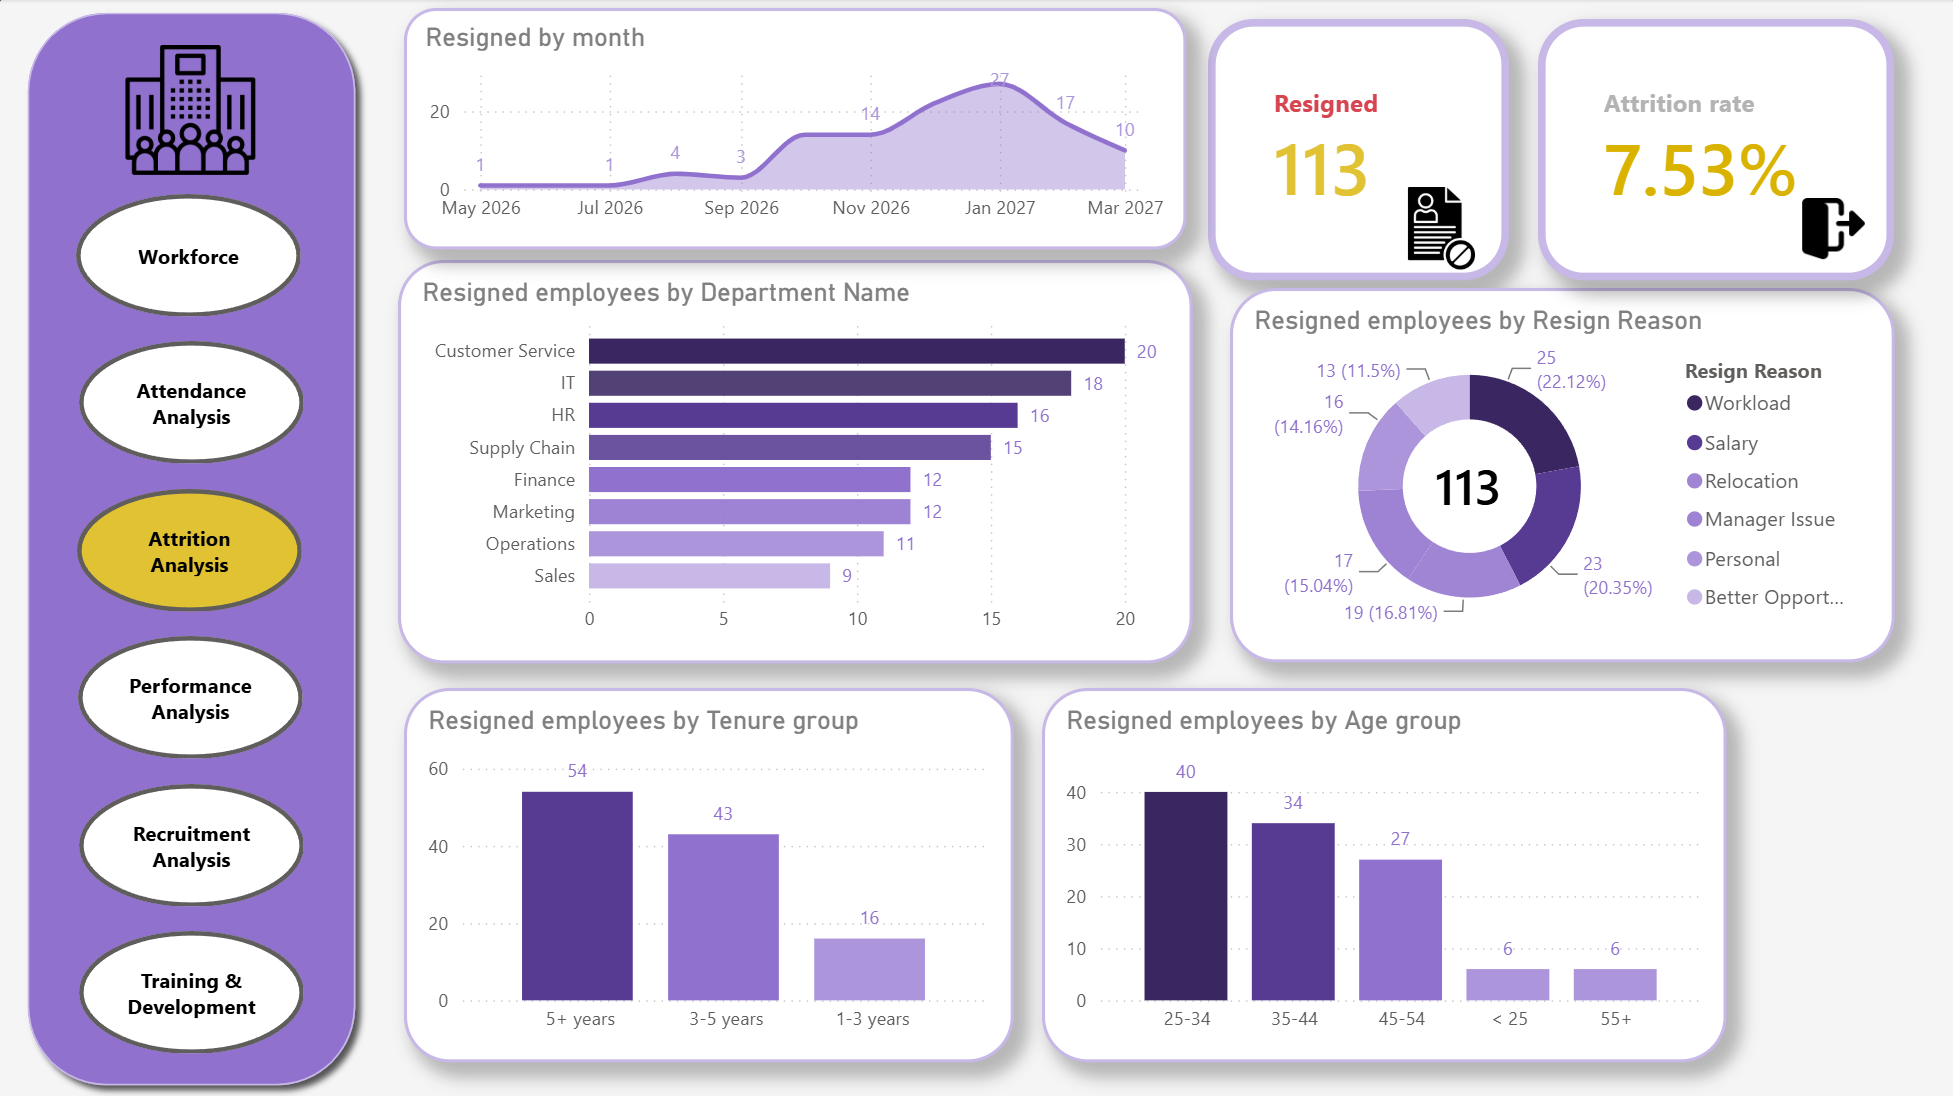

The dashboard page shown, as its layout file describes it:
{"tool":"powerbi","page":{"name":"Attrition Analysis","canvas":[1280,720],"ordinal":2},"visuals":[{"type":"shape","box":[9.8,0,232.3,719.8],"z":0},{"type":"actionButton","box":[52.1,224.1,147.2,80.5],"z":1000},{"type":"actionButton","box":[50.8,320.5,147.2,80.5],"z":2000},{"type":"actionButton","box":[51.4,417,147.2,80.5],"z":3000},{"type":"cardVisual","fields":{"Data":["ALL MEASURES.Resigned_employees"]},"box":[791.2,13.1,197,170.8],"z":4000},{"type":"actionButton","box":[52.1,513.4,147.2,80.5],"z":5000},{"type":"donutChart","title":"Resigned employees by Resign Reason","fields":{"Category":["Employees.Resign Reason"],"Y":["ALL MEASURES.Resigned_employees"]},"box":[805.6,189.1,434.5,245.4],"z":6000},{"type":"actionButton","box":[52.4,609.9,147.2,80.5],"z":7000},{"type":"clusteredBarChart","title":"Resigned employees by Department Name","fields":{"Category":["Departments.Department Name"],"Y":["ALL MEASURES.Resigned_employees"]},"box":[261.1,170.8,519.6,263.7],"z":8000},{"type":"cardVisual","fields":{"Data":["ALL MEASURES.Resigned_employees"]},"box":[890,250.1,143.5,132.6],"z":9000},{"type":"cardVisual","fields":{"Data":["ALL MEASURES.Attrition_rate"]},"box":[1007.1,13.1,233.1,170.6],"z":10000},{"type":"clusteredColumnChart","title":"Resigned employees by Tenure group","fields":{"Category":["Employees.Tenure group"],"Y":["ALL MEASURES.Resigned_employees"]},"box":[265,450.9,399.2,245.4],"z":11000},{"type":"clusteredColumnChart","fields":{"Category":["Employees.Age group"],"Y":["ALL MEASURES.Resigned_employees"]},"box":[682.5,450.9,448.3,245.4],"z":12000},{"type":"actionButton","box":[50.1,127.6,147.2,80.5],"z":13000},{"type":"image","box":[907,123,74.2,54],"z":14000},{"type":"image","box":[1174,130.2,52.7,40.4],"z":15000},{"type":"areaChart","title":"Resigned by month","fields":{"Category":["DateTable.Date.Variation.Date Hierarchy.Year","DateTable.Date.Variation.Date Hierarchy.Month"],"Y":["ALL MEASURES.Resigned_by_date"]},"box":[265,5.9,511.7,157.7],"z":16000},{"type":"image","box":[13.7,29.9,222.7,85.3],"z":17000}]}

Visuals, with their boxes in screenshot pixels (x1, y1, x2, y2), scaled from the page's 1280x720 canvas onto the 1953x1096 screenshot:
shape: 15,0,369,1095
actionButton: 79,341,304,464
actionButton: 78,488,302,610
actionButton: 78,635,303,757
cardVisual - ALL MEASURES.Resigned_employees: 1207,20,1508,280
actionButton: 79,782,304,904
"Resigned employees by Resign Reason" donutChart: 1229,288,1892,661
actionButton: 80,928,305,1051
"Resigned employees by Department Name" clusteredBarChart: 398,260,1191,661
cardVisual - ALL MEASURES.Resigned_employees: 1358,381,1577,583
cardVisual - ALL MEASURES.Attrition_rate: 1537,20,1892,280
"Resigned employees by Tenure group" clusteredColumnChart: 404,686,1013,1060
clusteredColumnChart - Employees.Age group x ALL MEASURES.Resigned_employees: 1041,686,1725,1060
actionButton: 76,194,301,317
image: 1384,187,1497,269
image: 1791,198,1872,260
"Resigned by month" areaChart: 404,9,1185,249
image: 21,46,361,175
